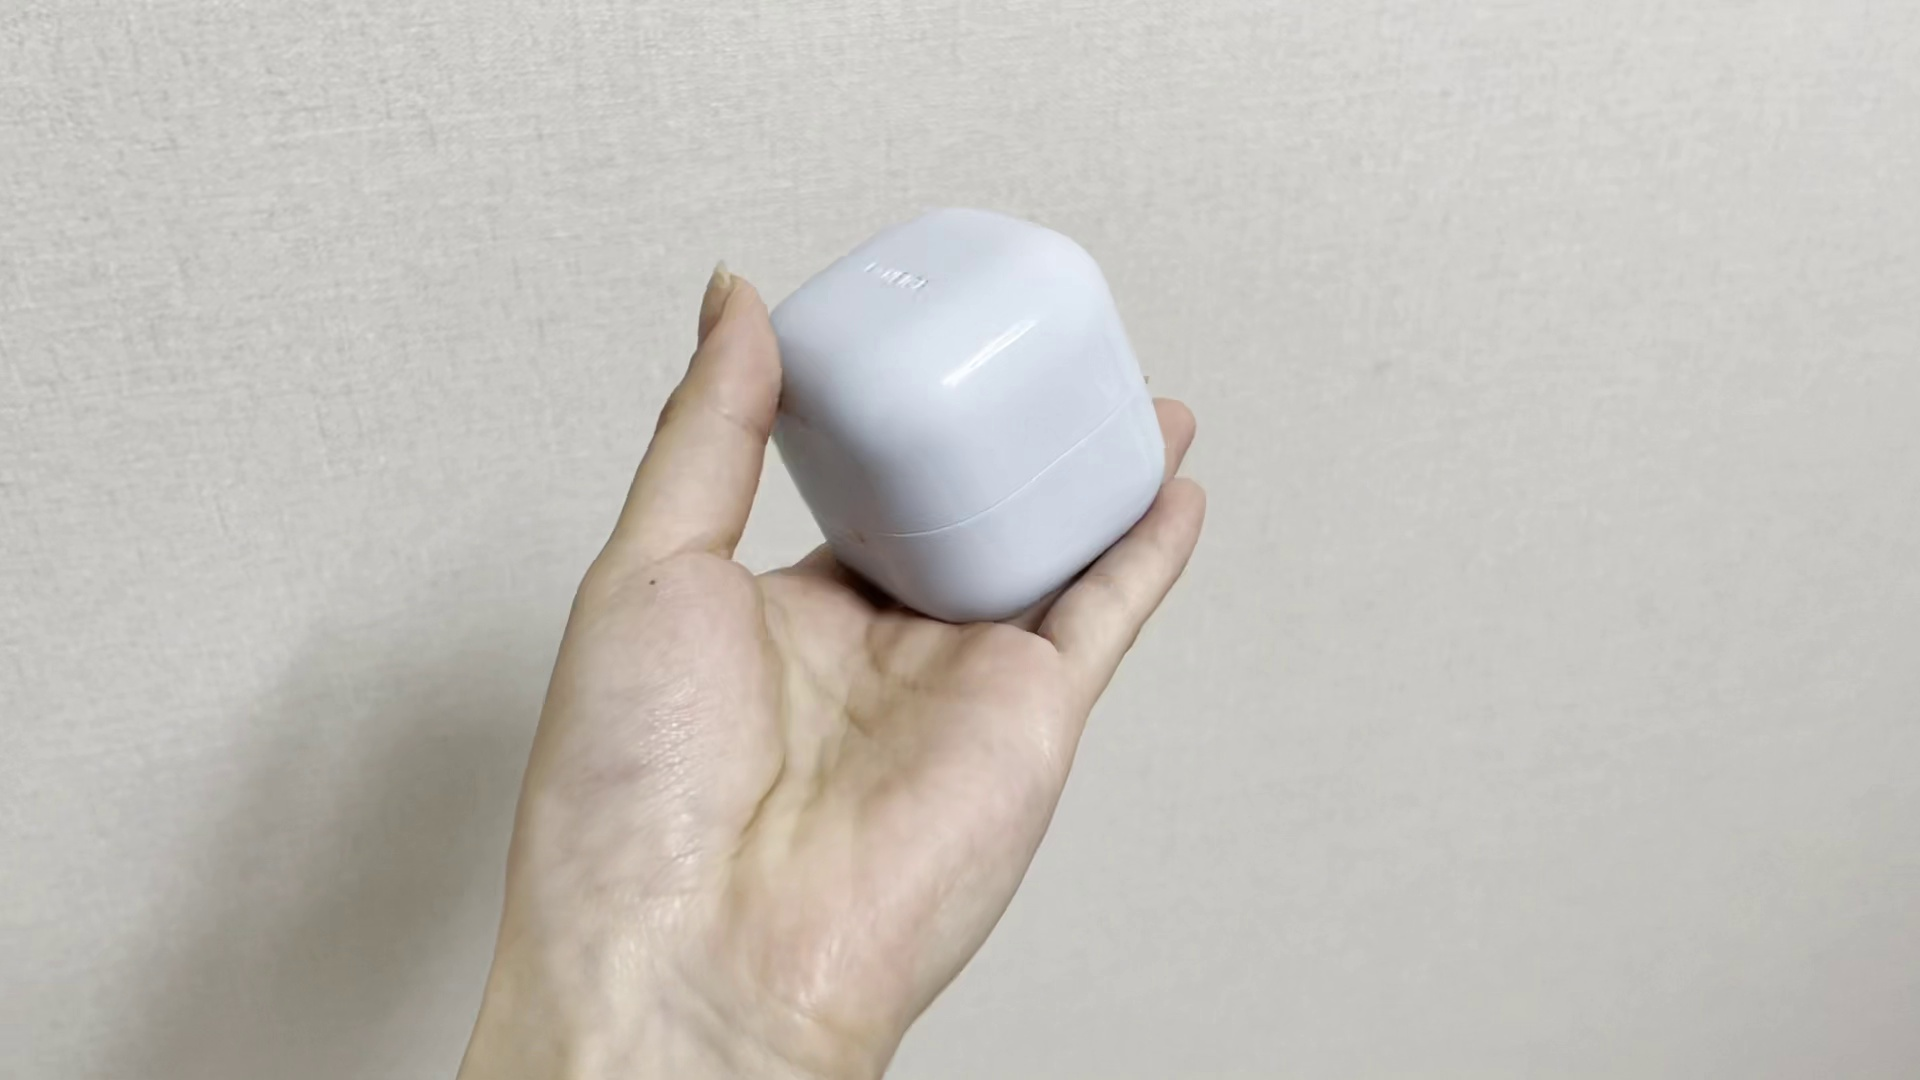cream: (756, 210, 1168, 620)
